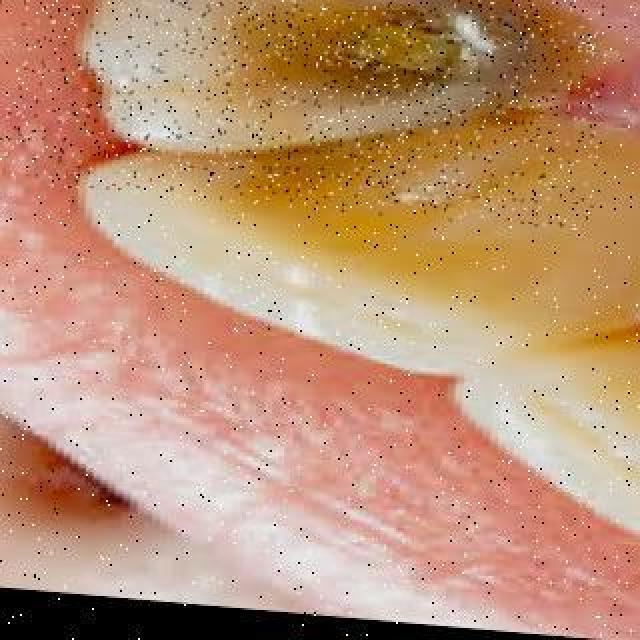cavities: (0, 0, 610, 232)
